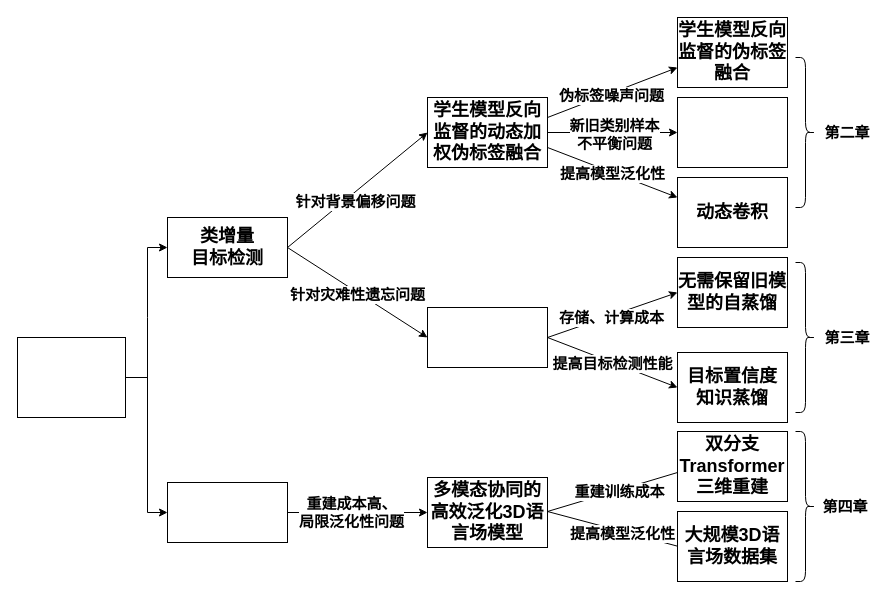
This 895x599 diagram has some shape labels left out. Here are the shapes that lost their labels. From the top down, the box of each, then its label:
(676, 96, 788, 168): 元学习驱动的动态重新加权
(426, 306, 548, 368): 目标置信度 引导的自蒸馏
(16, 336, 126, 418): 类目标检测与3D语言场任务研究
(166, 482, 288, 542): 3D语言场
